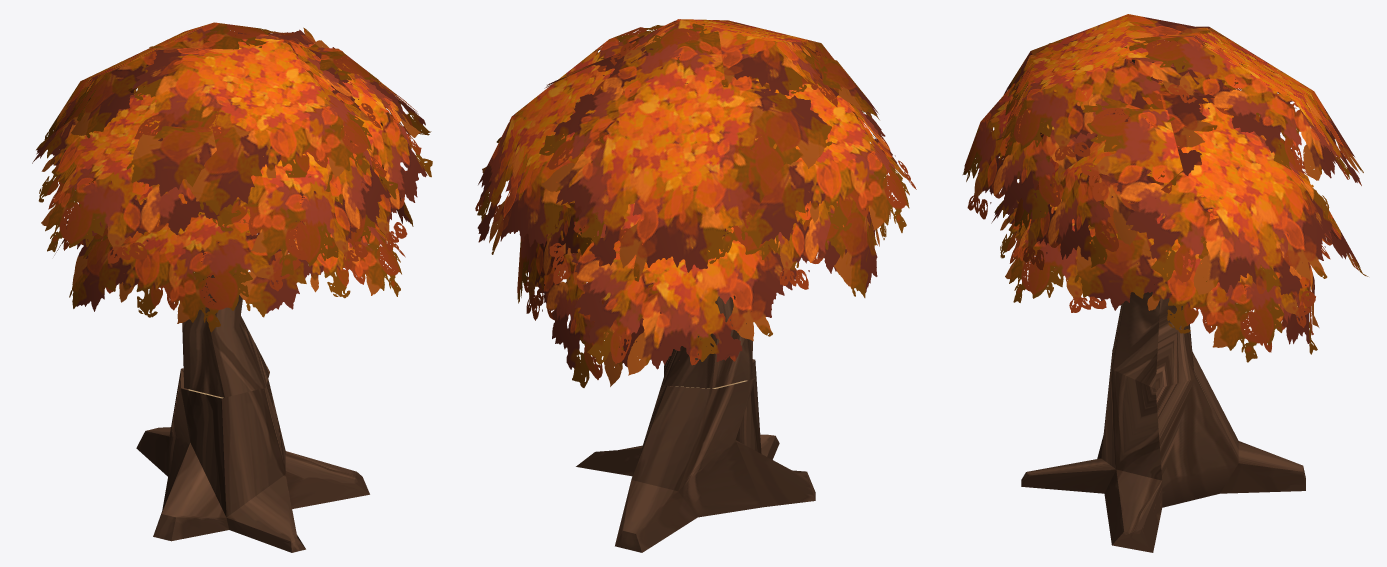
Rendered from Treepieces_breakable.fbx.
3 views of the same model, side by side, from view 1: azimuth 30°, elevation 25°; view 2: azimuth 150°, elevation 25°; view 3: azimuth 270°, elevation 25° (orthographic). The views are drawn at different scales.
Parts seen in each view (by area): view 1: polySurface127, polySurface15, polySurface128; view 2: polySurface127, polySurface15, polySurface128; view 3: polySurface127, polySurface15, polySurface128.
Part boxes in pixels (box(x1,y1,x2,y2)): polySurface127: box(32, 22, 432, 332); polySurface15: box(136, 368, 369, 552); polySurface128: box(182, 271, 269, 397); polySurface127: box(475, 19, 916, 387); polySurface15: box(576, 359, 815, 552); polySurface128: box(664, 295, 752, 388); polySurface127: box(962, 14, 1368, 362); polySurface15: box(1021, 350, 1305, 552); polySurface128: box(1112, 59, 1194, 388).
Bounding box in the file's own units: 3.16 × 3.47 × 2.9.
